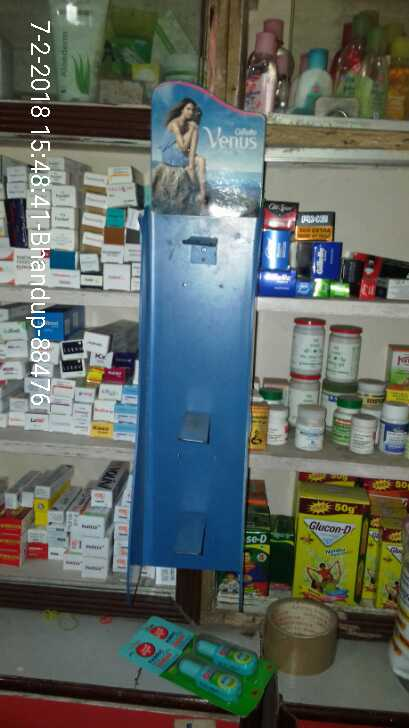reject: (158, 243, 260, 464)
